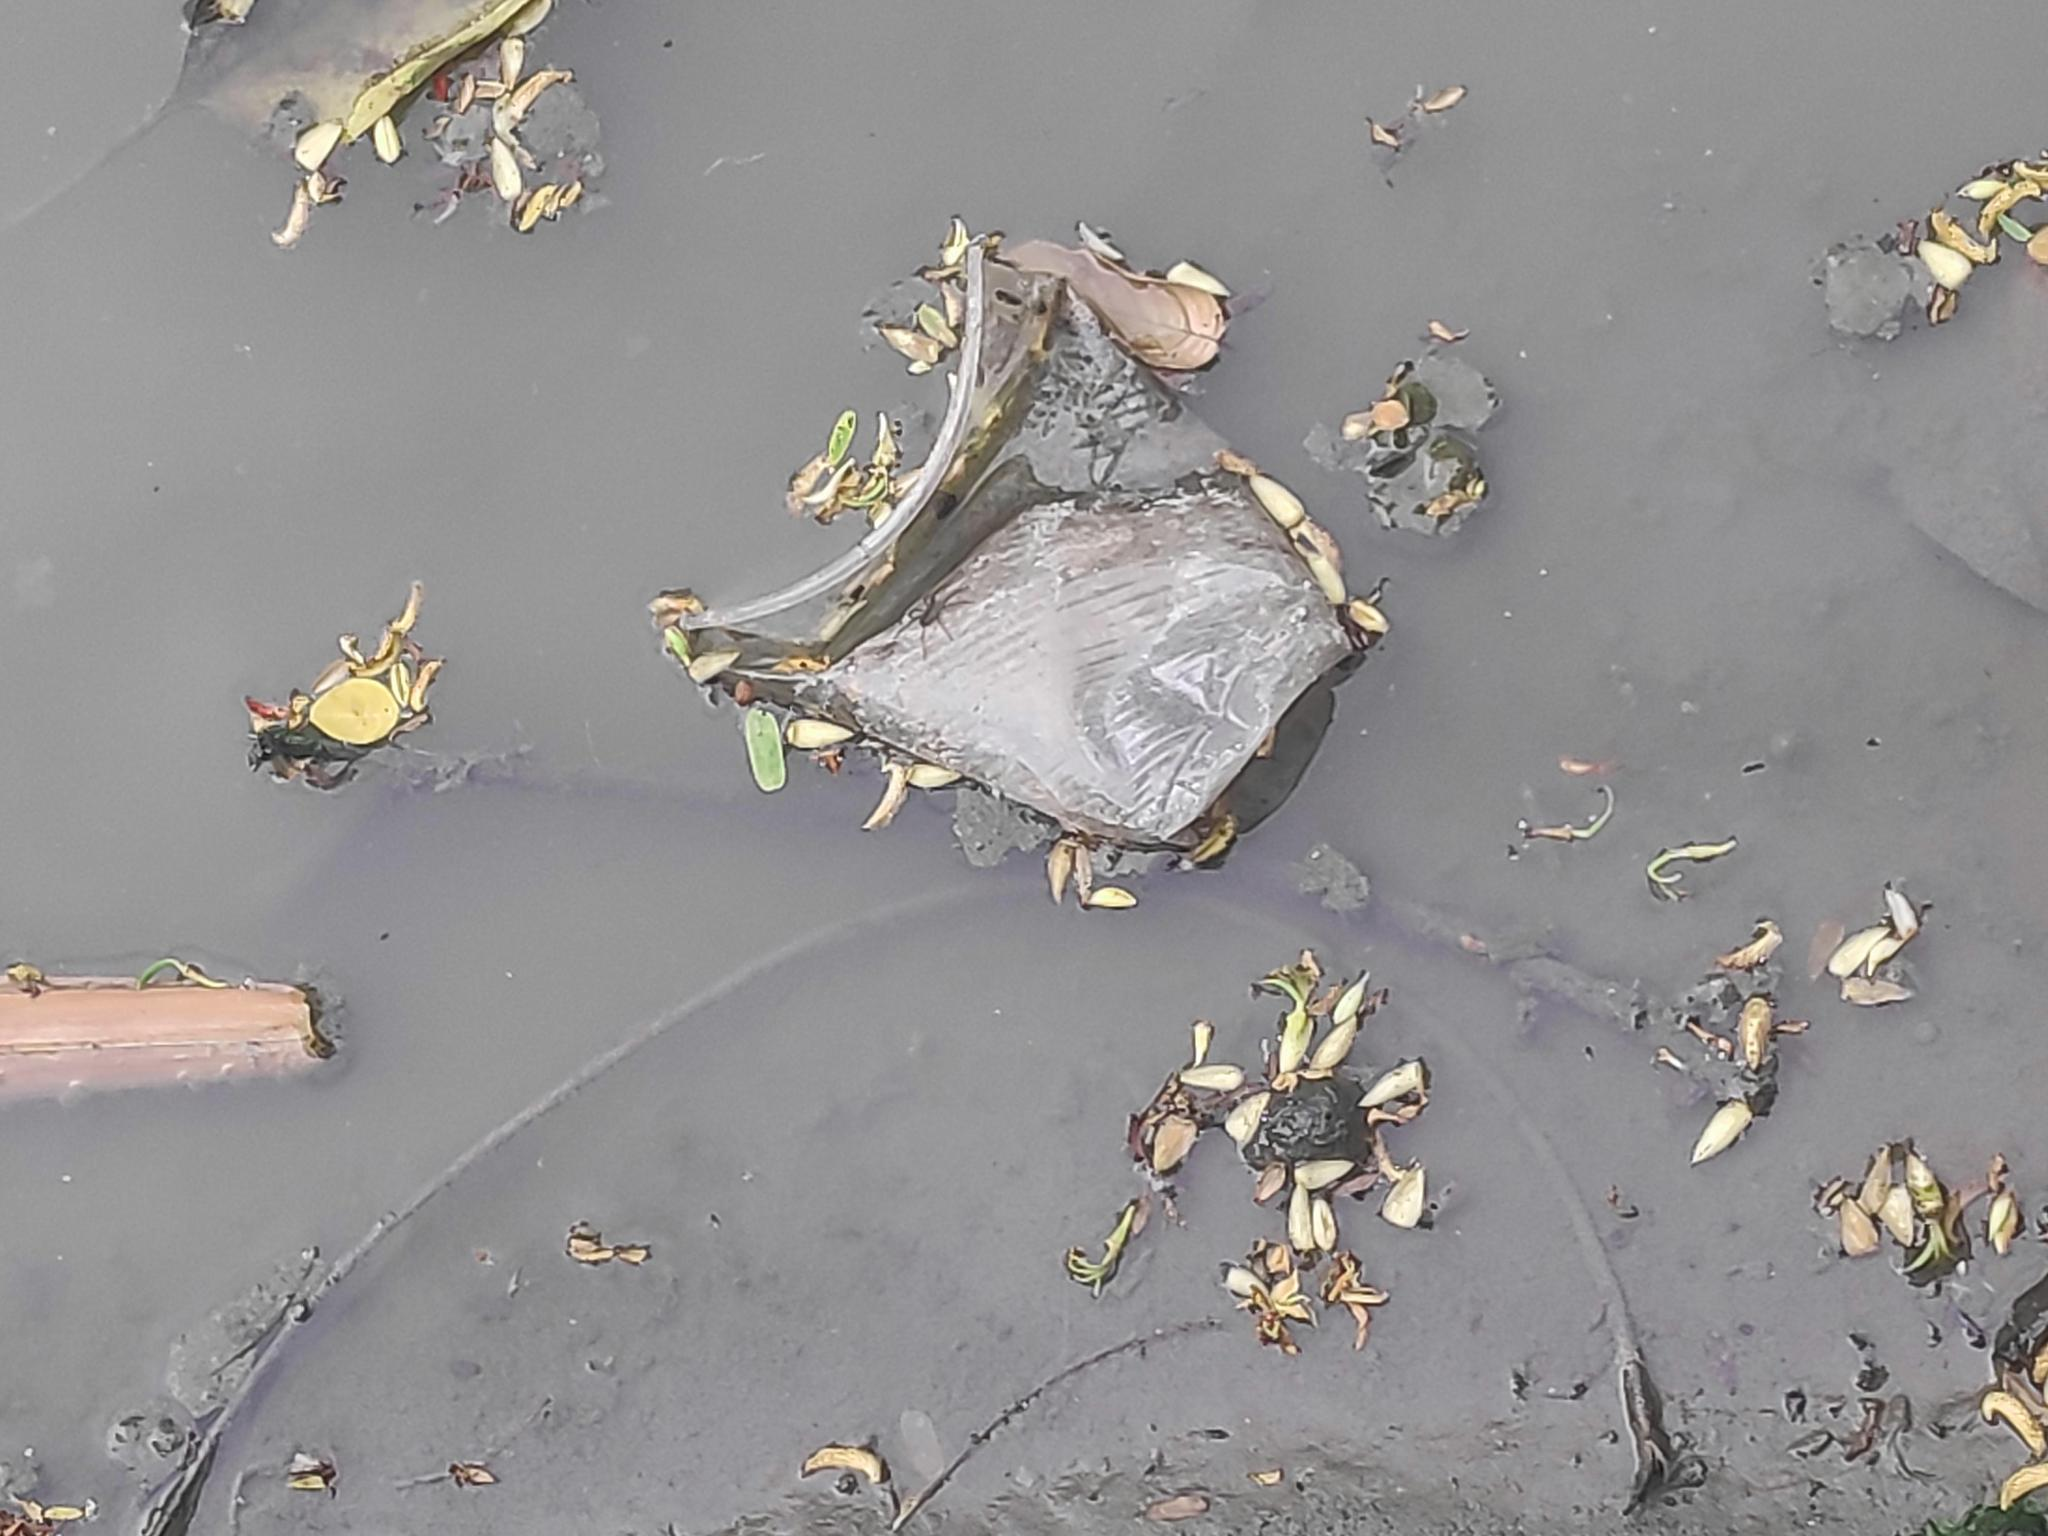Trash: (658, 239, 1374, 860)
